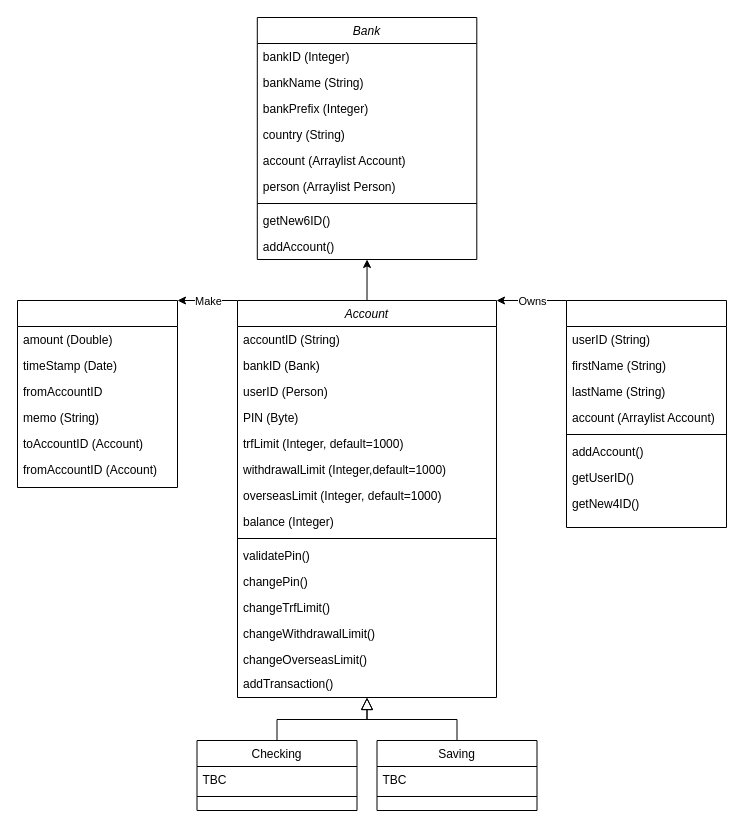
This 744x828 diagram has some shape labels left out. Here are the shapes that lost their labels. From the top down, the box of each, then its label:
(16, 300, 178, 488): Transaction
(566, 300, 726, 528): Person
